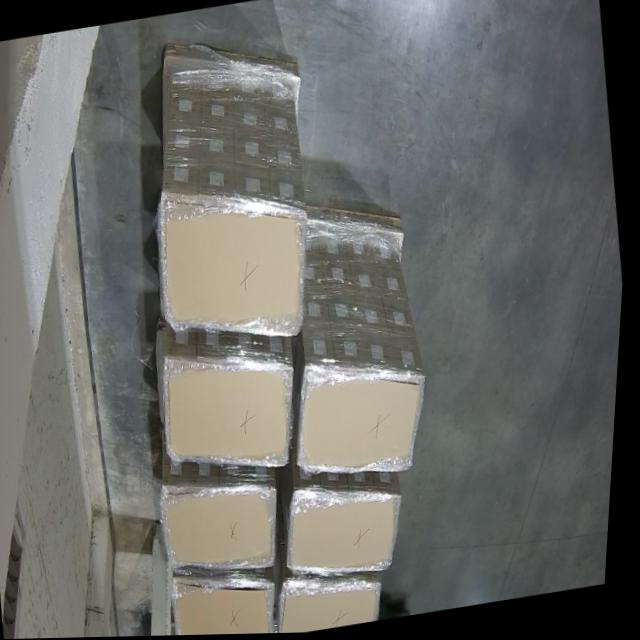pallet: (164, 197, 307, 340), (169, 361, 298, 468), (303, 368, 430, 474), (168, 489, 282, 566), (295, 498, 407, 574), (181, 576, 278, 636), (285, 585, 389, 635)
